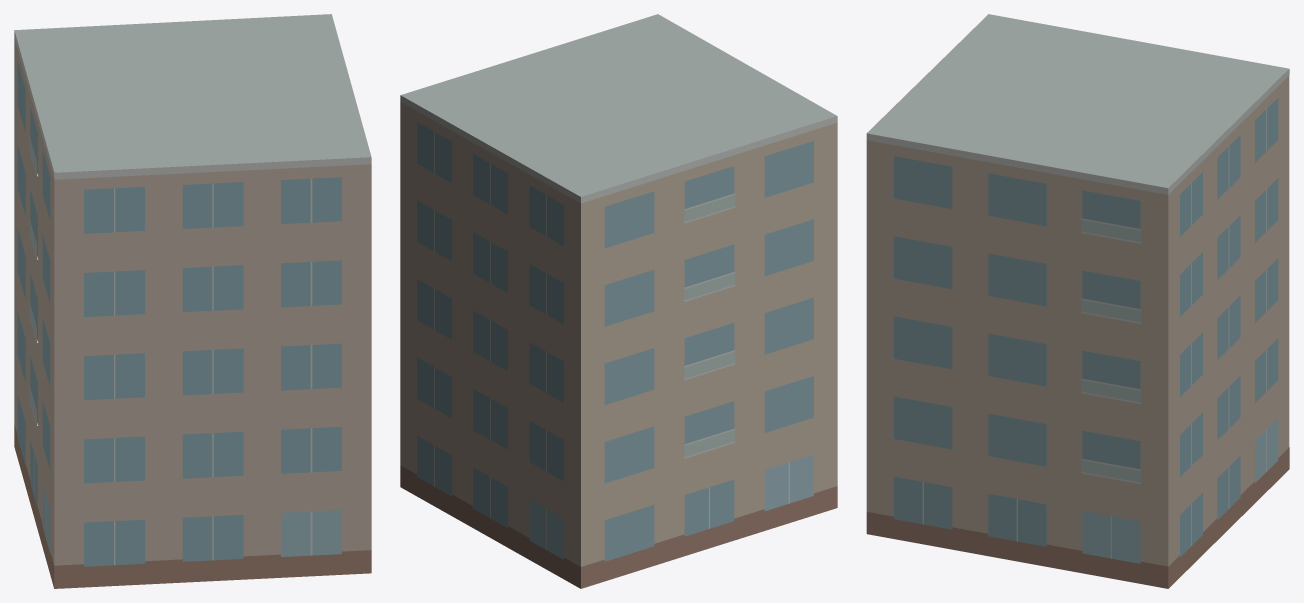
The model's file is survey-upis-32707414.glb.
3 views of the same model, side by side, from view 1: azimuth 30°, elevation 25°; view 2: azimuth 150°, elevation 25°; view 3: azimuth 270°, elevation 25° (orthographic). The views are drawn at different scales.
Visible parts, largest first — view 1: survey-upis-32707414.tmp; view 2: survey-upis-32707414.tmp; view 3: survey-upis-32707414.tmp.
Part boxes in pixels (x1,y1,x2,y2): survey-upis-32707414.tmp: (14, 14, 371, 588); survey-upis-32707414.tmp: (400, 14, 837, 588); survey-upis-32707414.tmp: (866, 14, 1289, 588).
Bounding box in the file's own units: 13.58 × 14.55 × 13.93.
